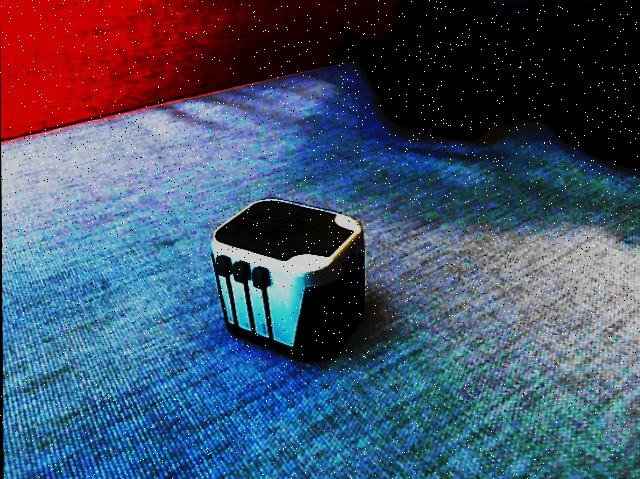adapter: (209, 198, 365, 362)
